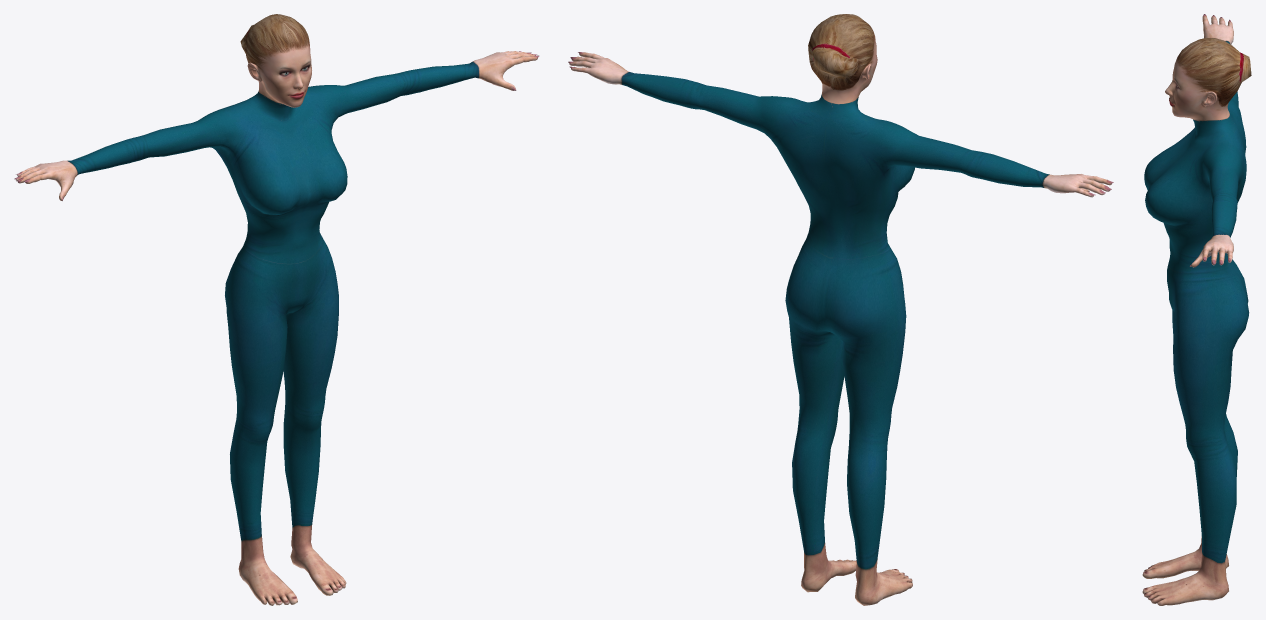
The model's file is Gyra.obj.
The picture shows the model from 3 angles, left to right: view 1: azimuth 30°, elevation 25°; view 2: azimuth 150°, elevation 25°; view 3: azimuth 270°, elevation 25°; orthographic projection. The views are drawn at different scales.
Parts seen in each view (by area): view 1: H_DDS_MidRes; view 2: H_DDS_MidRes; view 3: H_DDS_MidRes.
Boxes of the visible parts, x1=… form: H_DDS_MidRes: x1=14, y1=14, x2=539, y2=605; H_DDS_MidRes: x1=568, y1=14, x2=1113, y2=605; H_DDS_MidRes: x1=1142, y1=14, x2=1251, y2=605.
Bounding box in the file's own units: 149 × 153 × 27.65.
1 material, 1 textured.
